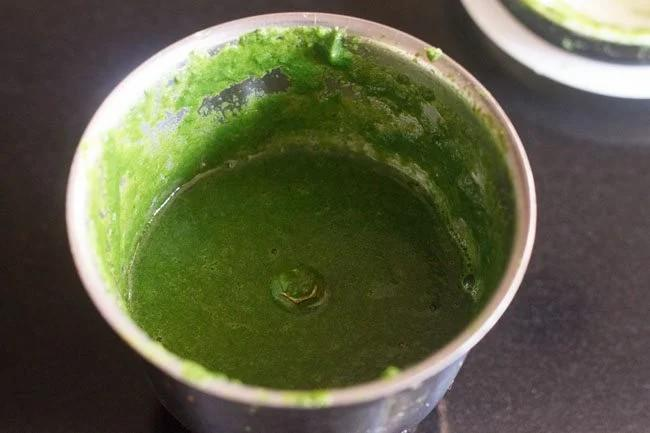GreenChutney: (128, 147, 468, 390)
